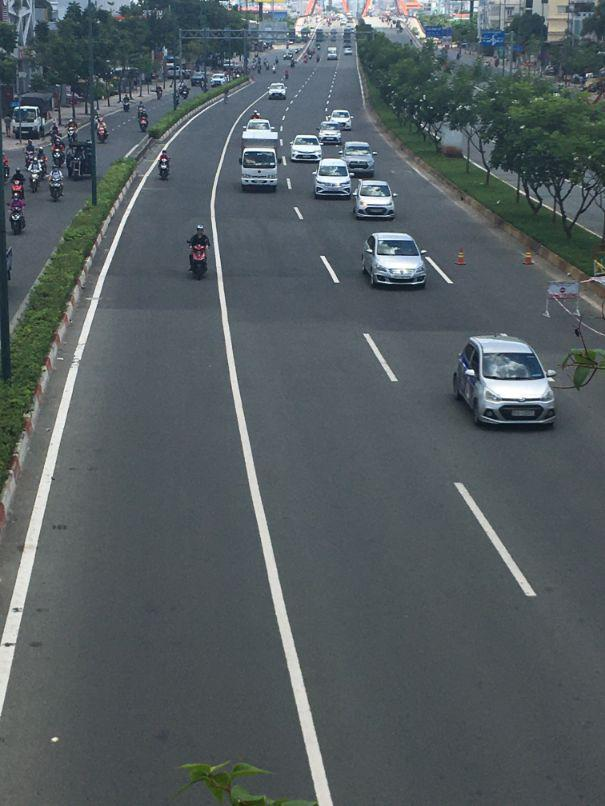car: (453, 333, 559, 429), (363, 234, 427, 290), (355, 181, 398, 222), (314, 159, 353, 200), (342, 140, 375, 179), (291, 137, 323, 166), (546, 279, 579, 301), (269, 82, 287, 100), (325, 50, 339, 63)
motorbike: (186, 225, 210, 277), (10, 201, 27, 233), (48, 168, 63, 199), (159, 152, 170, 178)
truck: (12, 92, 62, 139), (239, 147, 280, 195)
